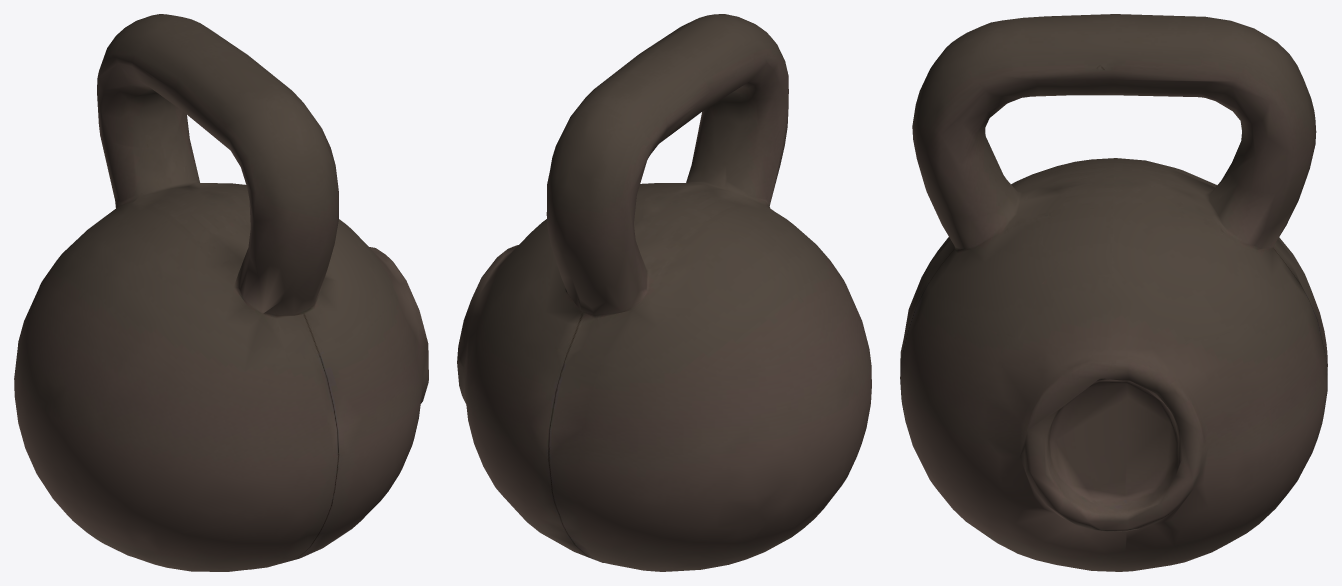
The model's file is weight.glb.
The picture shows the model from 3 angles, left to right: view 1: azimuth 30°, elevation 25°; view 2: azimuth 150°, elevation 25°; view 3: azimuth 270°, elevation 25°; orthographic projection. The views are drawn at different scales.
Parts seen in each view (by area): view 1: tripo_node_f4c4985a-2855-4b49-9bf8-64fb5de7c177; view 2: tripo_node_f4c4985a-2855-4b49-9bf8-64fb5de7c177; view 3: tripo_node_f4c4985a-2855-4b49-9bf8-64fb5de7c177.
Part boxes in pixels (box(x1,y1,x2,y2)): tripo_node_f4c4985a-2855-4b49-9bf8-64fb5de7c177: box(14, 14, 428, 571); tripo_node_f4c4985a-2855-4b49-9bf8-64fb5de7c177: box(457, 14, 871, 571); tripo_node_f4c4985a-2855-4b49-9bf8-64fb5de7c177: box(900, 14, 1327, 571).
Bounding box in the file's own units: 0.7611 × 0.9999 × 0.7616.
Materials: 1 (1 with a texture image).
